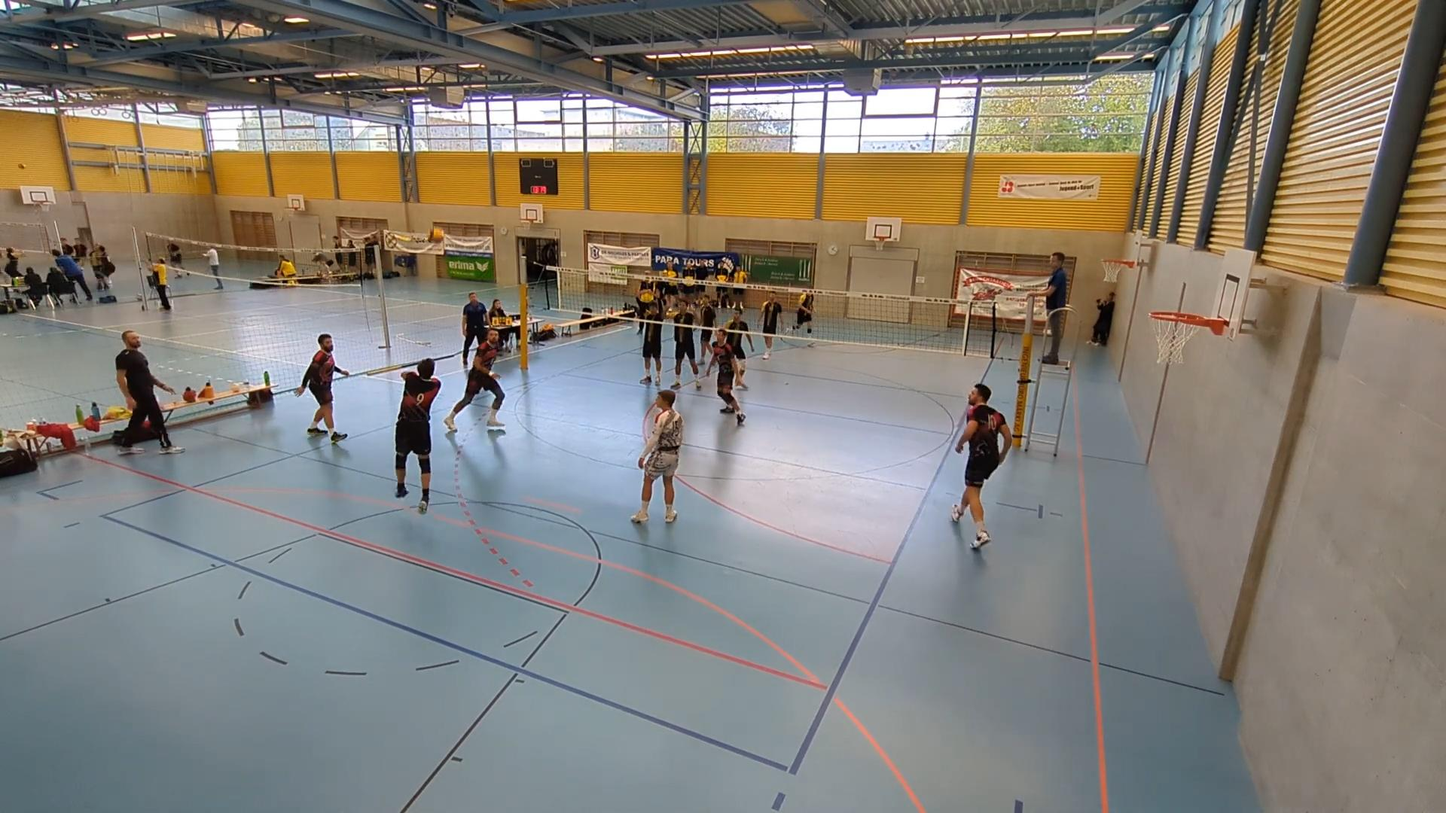ricezione: (392, 353, 444, 512)
